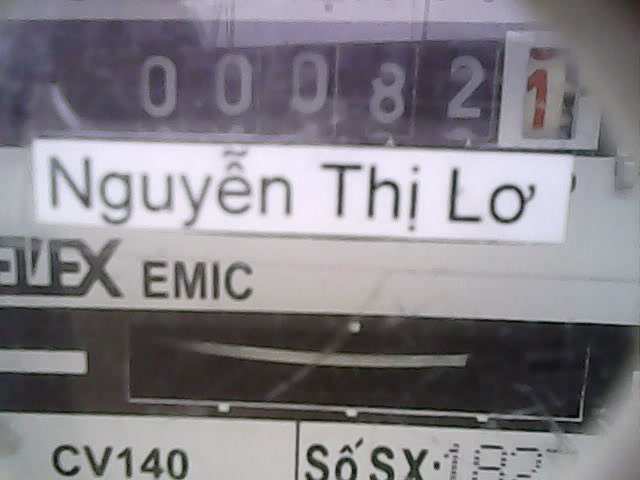phy_plate: (124, 31, 605, 162)
